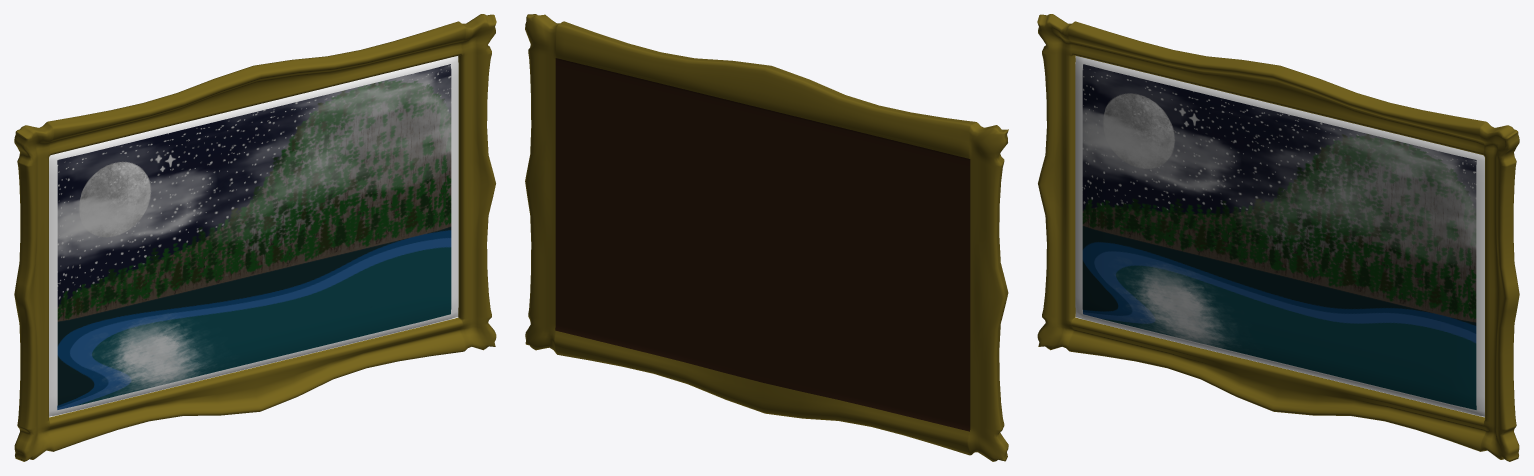
Rendered from Landscape 2.fbx.
The picture shows the model from 3 angles, left to right: view 1: azimuth 30°, elevation 25°; view 2: azimuth 150°, elevation 25°; view 3: azimuth 330°, elevation 25°; orthographic projection.
Parts seen in each view (by area): view 1: mountainLandscape_geo1; view 2: mountainLandscape_geo1; view 3: mountainLandscape_geo1.
Boxes of the visible parts, bbox=[...] form: mountainLandscape_geo1: bbox=[14, 14, 496, 461]; mountainLandscape_geo1: bbox=[525, 14, 1008, 461]; mountainLandscape_geo1: bbox=[1037, 14, 1519, 461].
Size of the model in its own units: 1.71 by 1.17 by 0.0743.
1 material, 1 textured.
